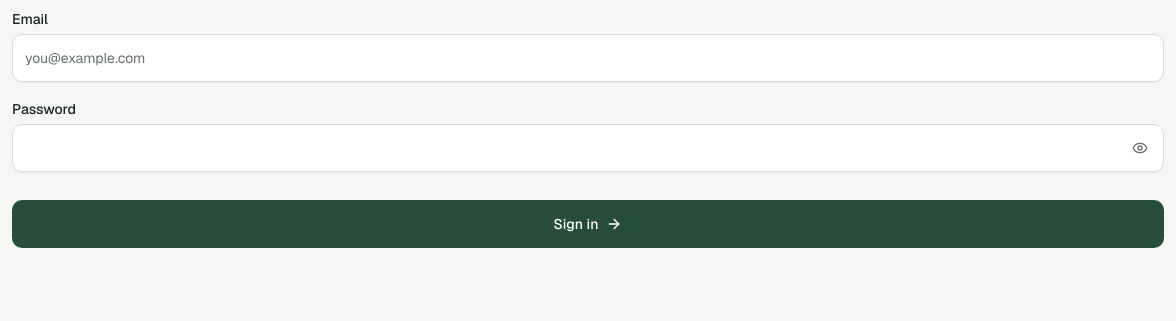
Test: login form › validates email and nonempty password without displaying strength rules
The image size is (1176, 321).
Click the button "Sign in" at [588, 224], box [12,200,1164,248]
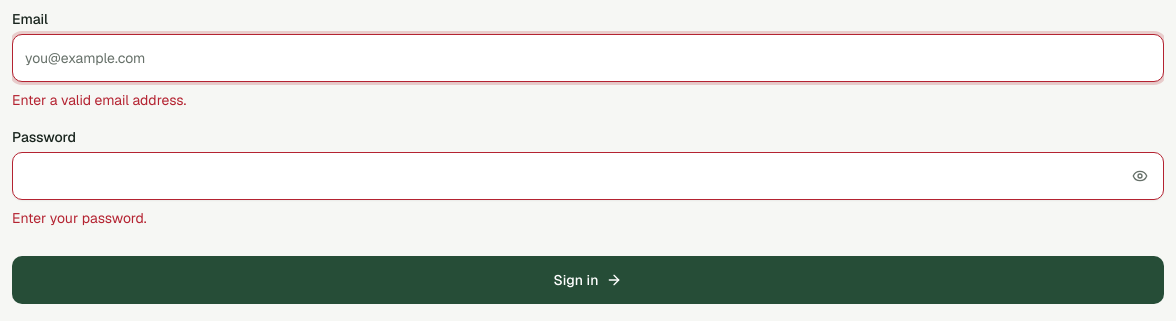
Expected: the text "Enter your password." is shown, [12,209,147,227]
Expected: the text "Enter a valid email address." is shown, [12,91,186,109]
